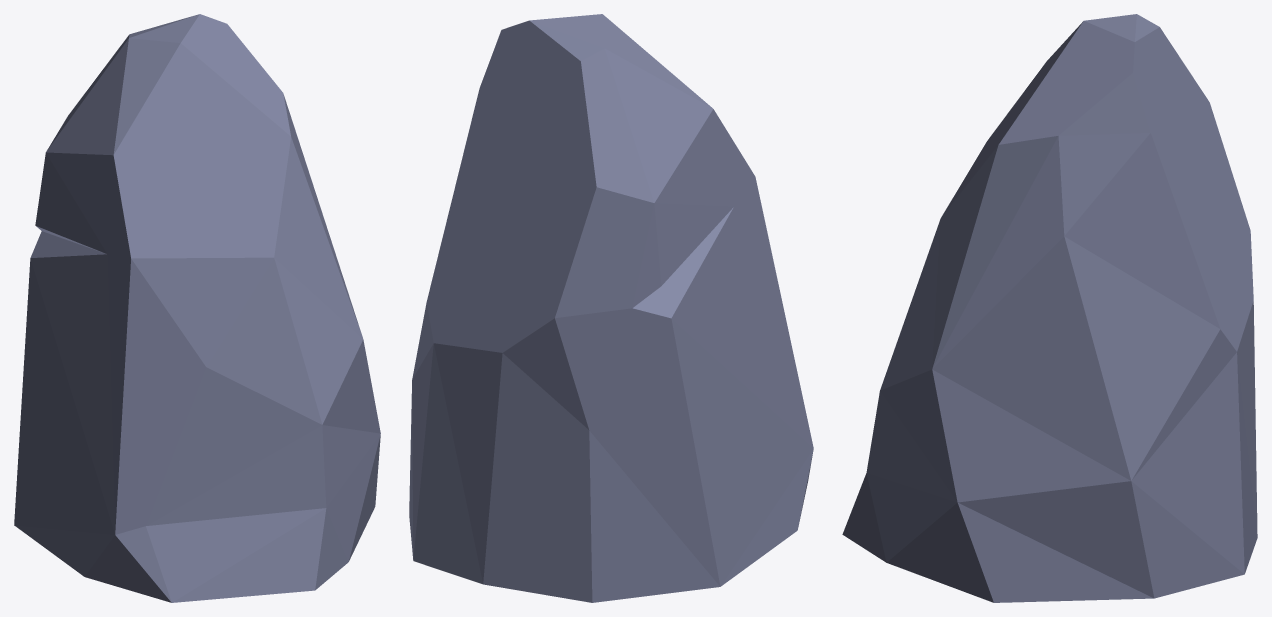
Rendered from Rock_3 Asia.fbx.
3 renders of one model, left to right at view 1: azimuth 30°, elevation 25°; view 2: azimuth 150°, elevation 25°; view 3: azimuth 270°, elevation 25°, orthographic. The views are drawn at different scales.
Visible parts, largest first — view 1: Rock_3; view 2: Rock_3; view 3: Rock_3.
Boxes of the visible parts, x1,y1,x2,y2 form: Rock_3: [14, 14, 380, 602]; Rock_3: [409, 14, 813, 602]; Rock_3: [842, 14, 1257, 602].
Size of the model in its own units: 1.66 by 2.57 by 1.92.
